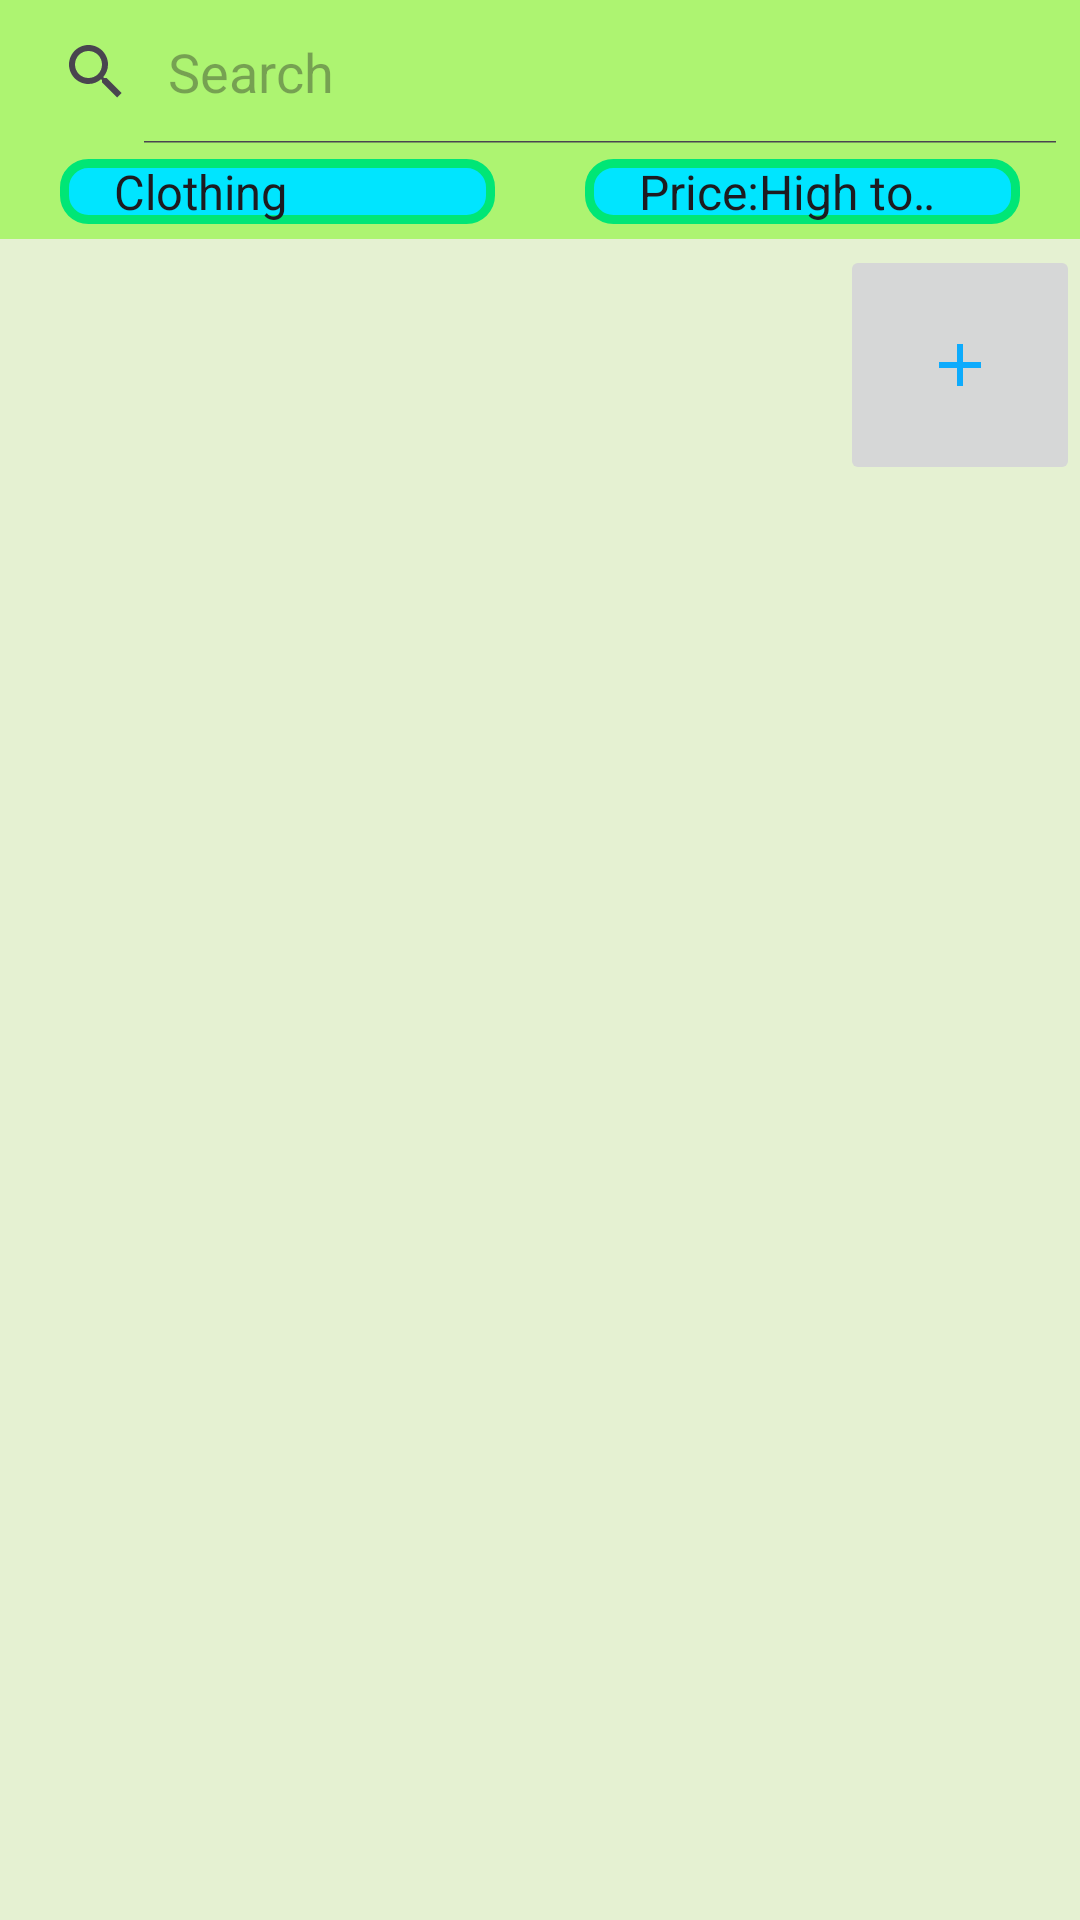

Icons on this 1080px×1920px Android screen, each with the point to tap as (x=x, y=y):
add: (x=960, y=365)
